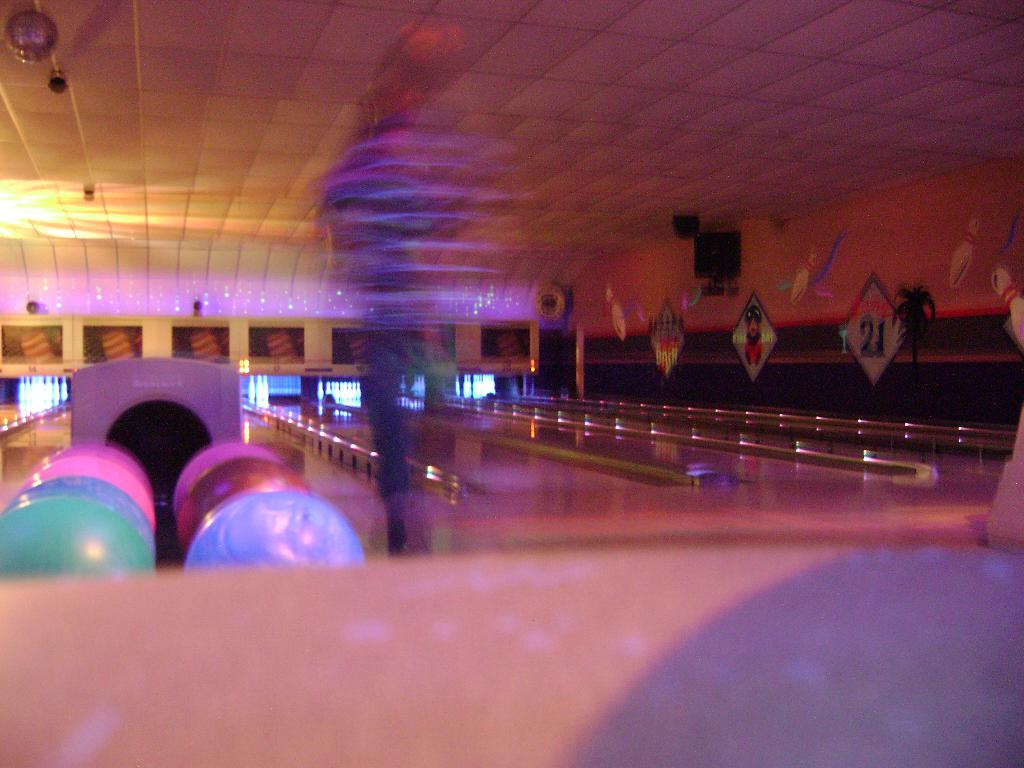Ball: (0, 444, 364, 586)
